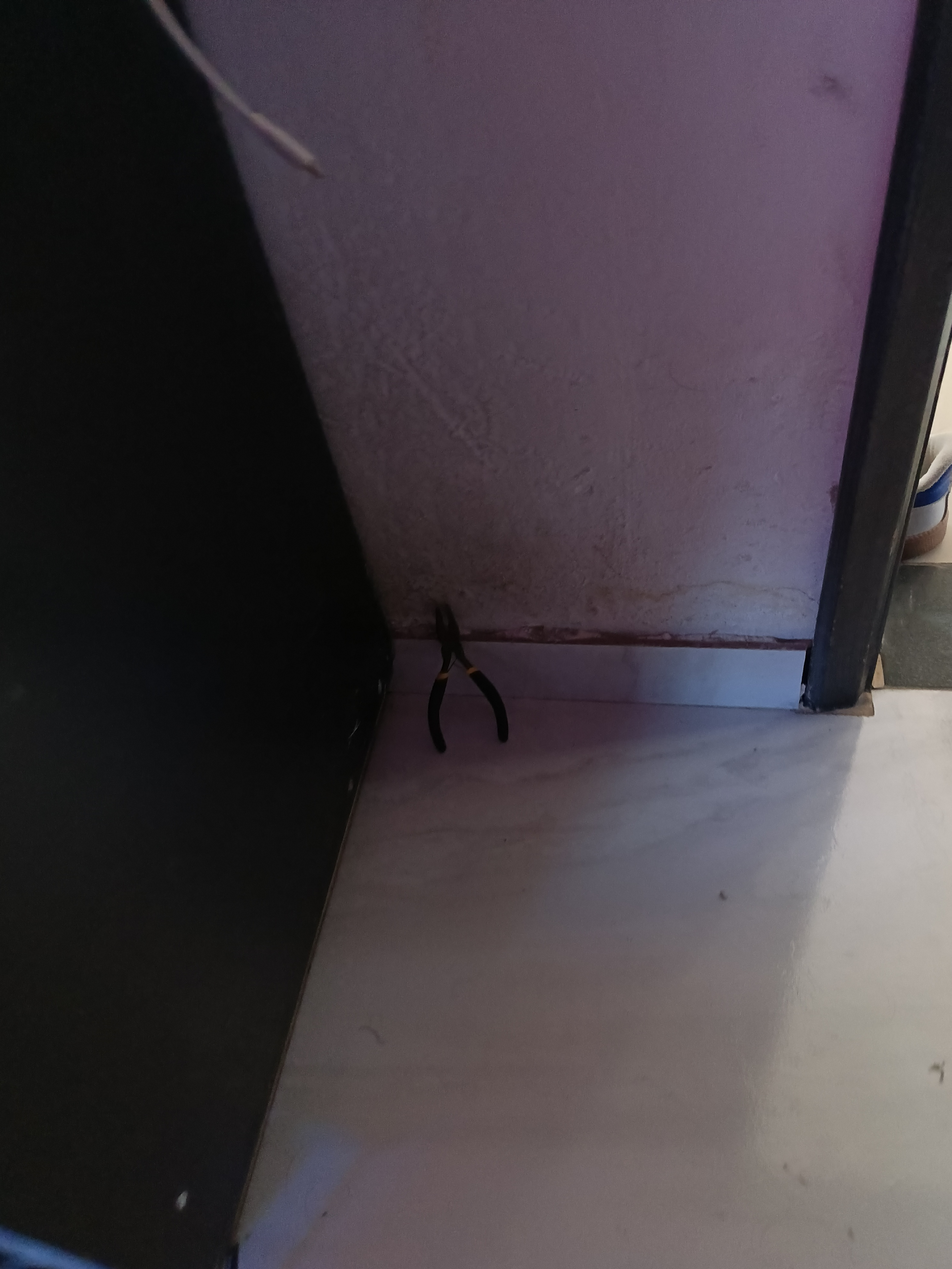Pinzas: (427, 602, 509, 753)
